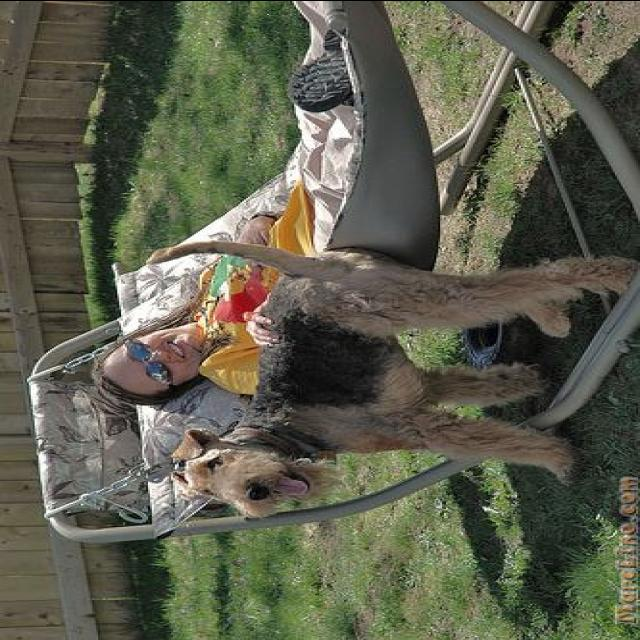airedale: (136, 238, 638, 522)
